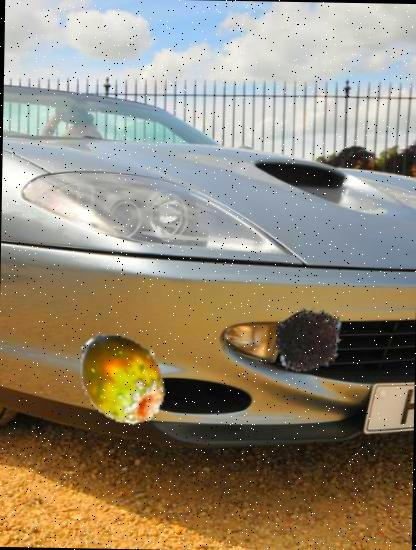Cactus: (72, 326, 174, 428)
Rambutan: (272, 302, 350, 380)
